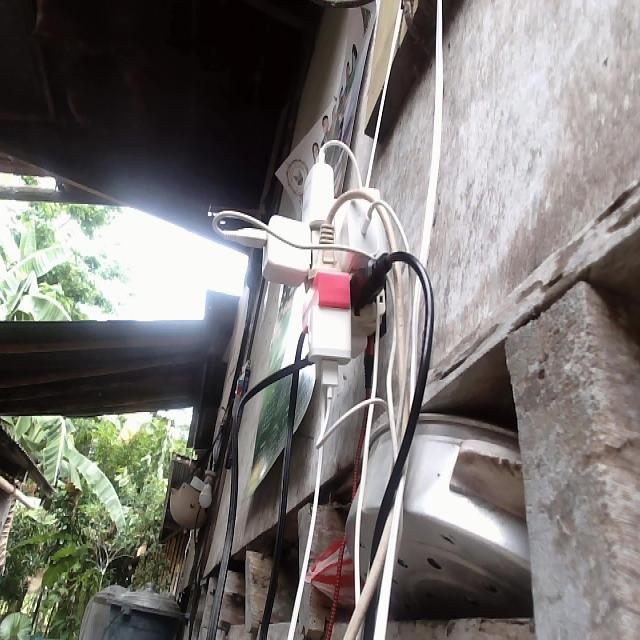-: (227, 148, 401, 403)
